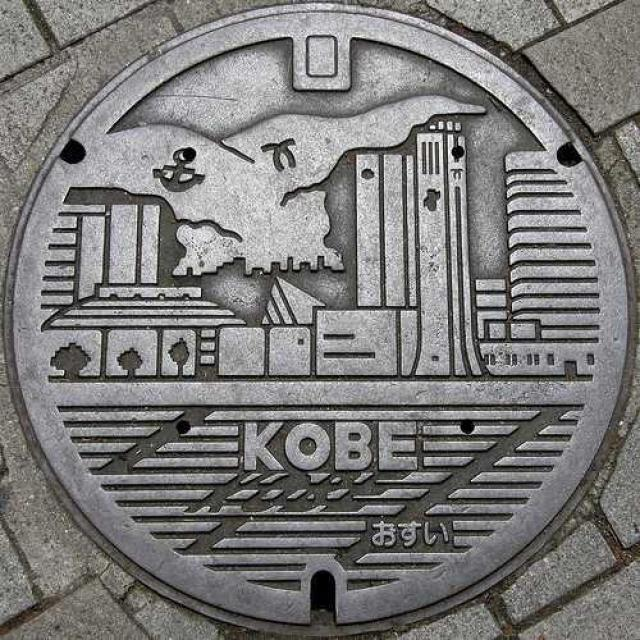manhole: (7, 4, 634, 634)
